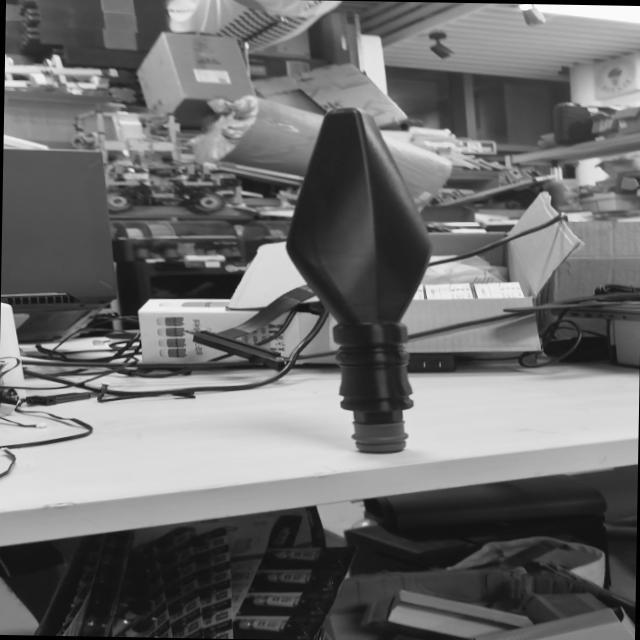base: (342, 417, 414, 459)
